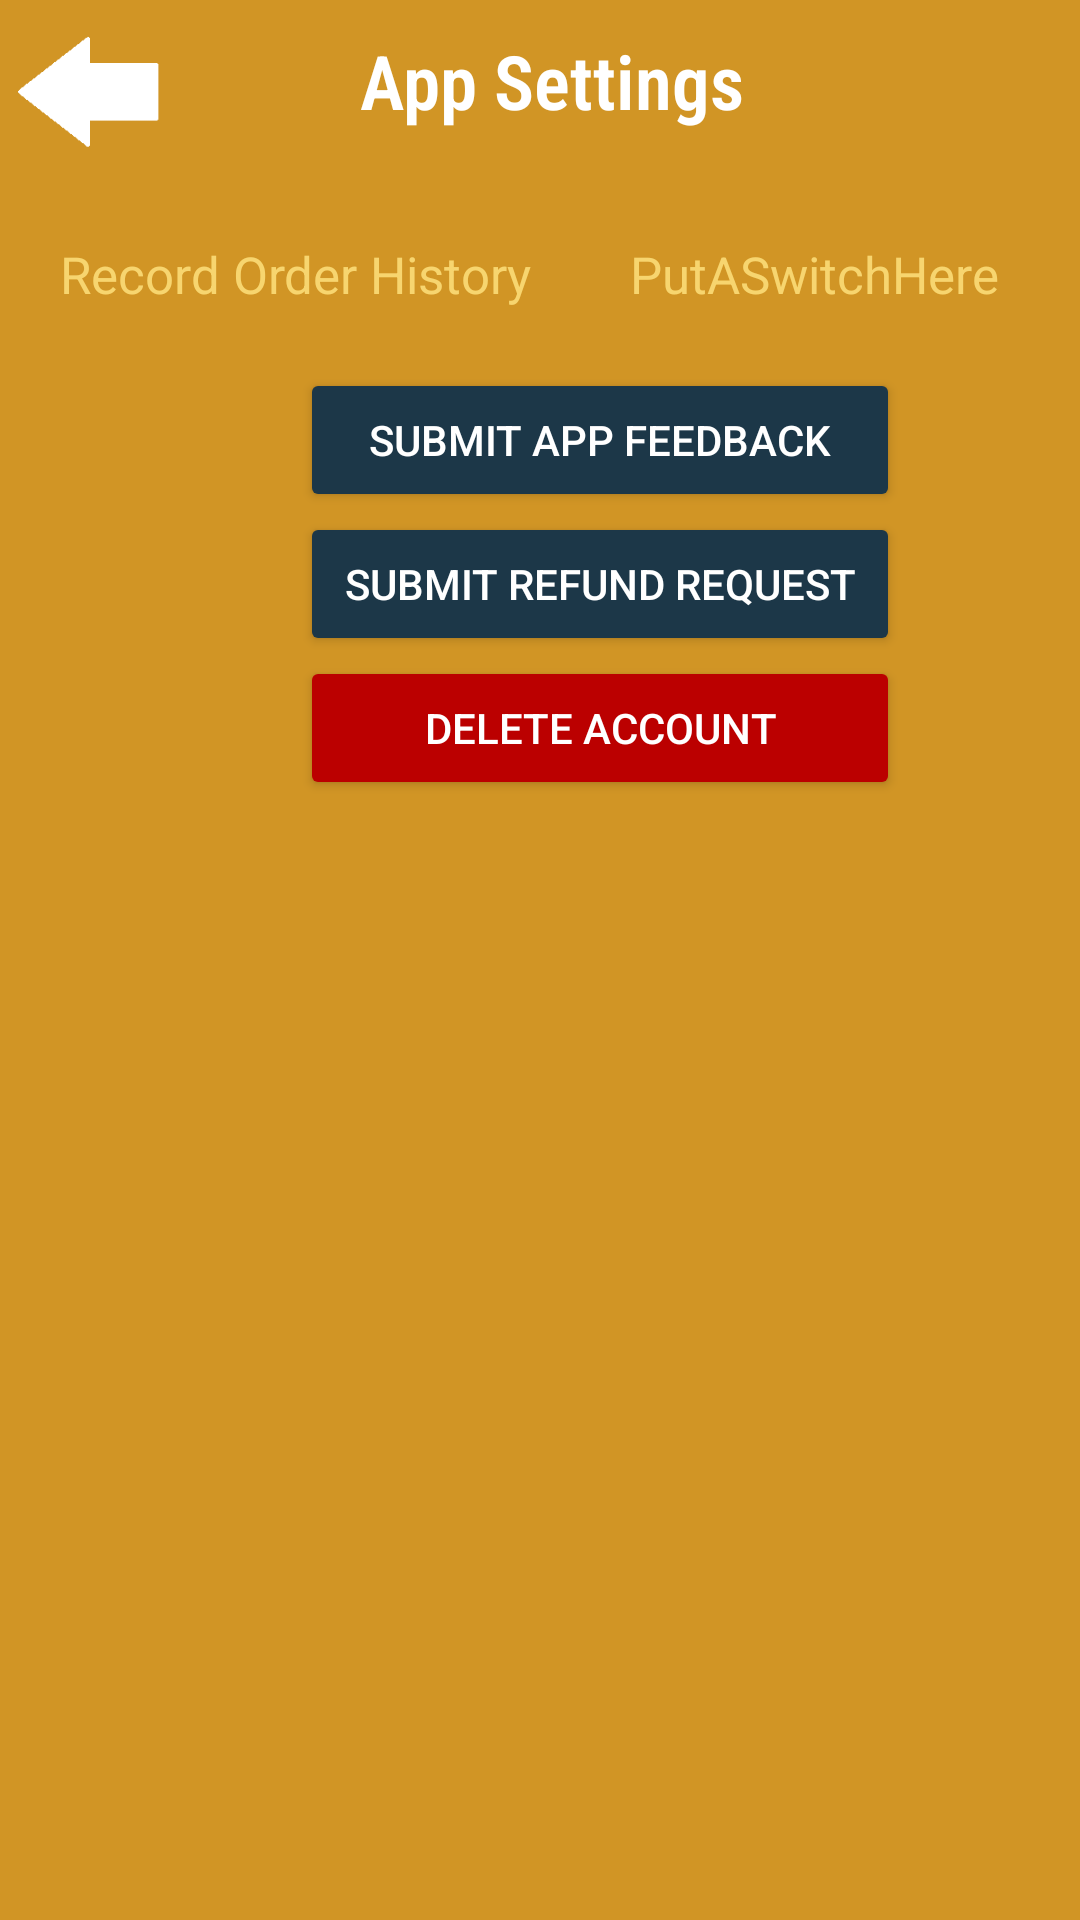

Icons on this 1080 x 1920 Android screen, each with its box as (x1, y1, x2, y2):
backarrow: (18, 37, 159, 147)
